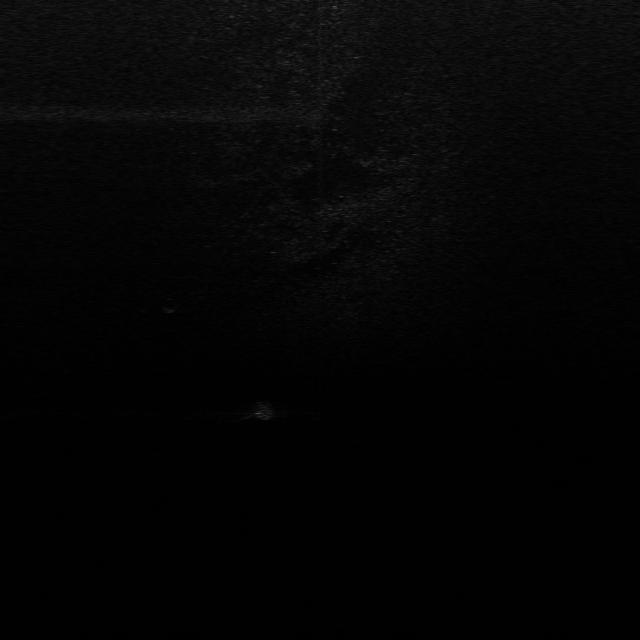ball: (252, 398, 279, 420)
circle cage: (153, 295, 184, 316)
